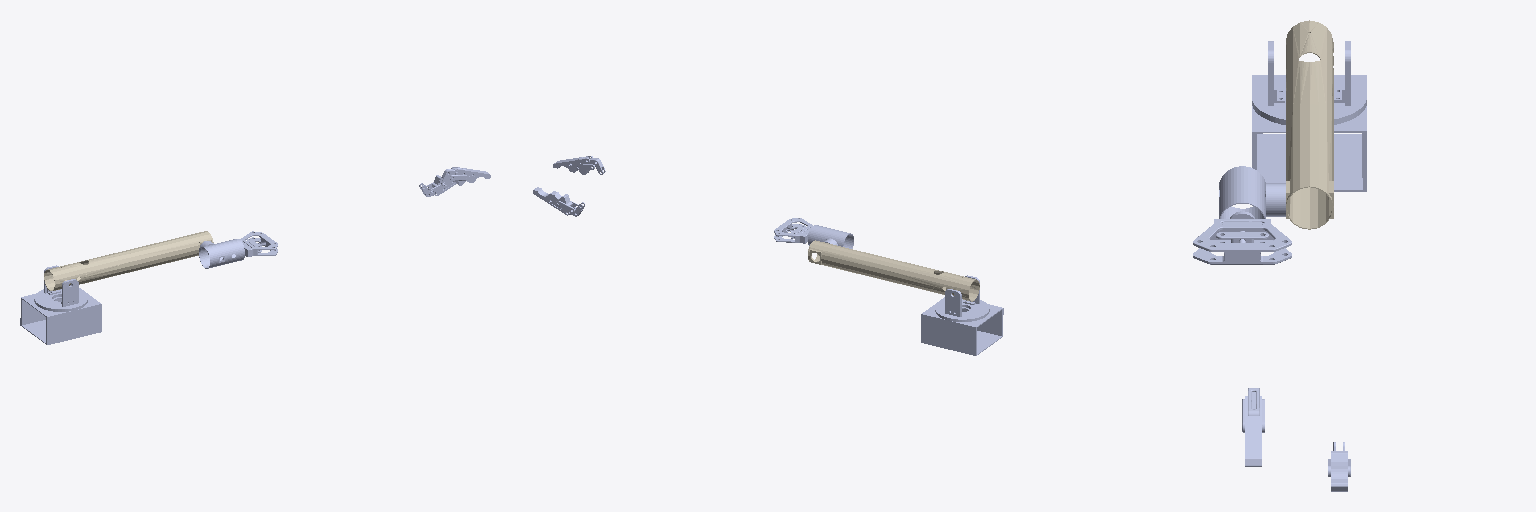
robot.urdf — msv_3dof_arm:
<?xml version="1.0" encoding="utf-8"?>
<!-- This URDF was automatically created by SolidWorks to URDF Exporter! Originally created by [author] ([email redacted]) 
     Commit Version: 1.6.0-1-g15f4949  Build Version: 1.6.7594.29634
     For more information, please see http://wiki.ros.org/sw_urdf_exporter -->
<robot
  name="msv_3dof_arm">
  <link
    name="base_link">
    <inertial>
      <origin
        xyz="0 0 -0.09135"
        rpy="0 0 0" />
      <mass
        value="0.156772566611769" />
      <inertia
        ixx="0.000494148301397321"
        ixy="-2.6240374845148E-21"
        ixz="-7.90564084104019E-21"
        iyy="0.000368498301397322"
        iyz="-2.92371927043028E-20"
        izz="0.000646691913743825" />
    </inertial>
    <visual>
      <origin
        xyz="0 0 0"
        rpy="1.5757 0 0" />
      <geometry>
        <mesh
          filename="package://msv_3dof_arm/meshes/base_link.STL" />
      </geometry>
      <material
        name="">
        <color
          rgba="0.792156862745098 0.819607843137255 0.933333333333333 1" />
      </material>
    </visual>
    <collision>
      <origin
        xyz="0 0 0"
        rpy="1.5757 0 0" />
      <geometry>
        <mesh
          filename="package://msv_3dof_arm/meshes/base_link.STL" />
      </geometry>
    </collision>
  </link>
  <link
    name="link1">
    <inertial>
      <origin
        xyz="0.110728673410591 -0.0092714182188576 -0.0425649356498366"
        rpy="1.5757 0 0" />
      <mass
        value="0.433898677133809" />
      <inertia
        ixx="0.0016639828460917"
        ixy="0.00120863202140725"
        ixz="-0.00204502780751148"
        iyy="0.0125493047119251"
        iyz="0.000171227036330293"
        izz="0.0124511366596275" />
    </inertial>
    <visual>
      <origin
        xyz="0 0 0"
        rpy="1.5757 0 0" />
      <geometry>
        <mesh
          filename="package://msv_3dof_arm/meshes/link1.STL" />
      </geometry>
      <material
        name="">
        <color
          rgba="0.792156862745098 0.819607843137255 0.933333333333333 1" />
      </material>
    </visual>
    <collision>
      <origin
        xyz="0 0 0"
        rpy="1.5757 0 0" />
      <geometry>
        <mesh
          filename="package://msv_3dof_arm/meshes/link1.STL" />
      </geometry>
    </collision>
  </link>
  <joint
    name="joint_base"
    type="revolute">
    <origin
      xyz="0 0 0"
      rpy="0 0 0" />
    <parent
      link="base_link" />
    <child
      link="link1" />
    <axis
      xyz="0 0 1" />
    <limit
      lower="0"
      upper="0"
      effort="0"
      velocity="0" />
  </joint>
  <link
    name="link2">
    <inertial>
      <origin
        xyz="0.184976916380391 5.73149567945075E-08 -1.87434286751525E-07"
        rpy="0 0 0" />
      <mass
        value="0.114971943053287" />
      <inertia
        ixx="6.92181720797658E-05"
        ixy="6.99722840783902E-10"
        ixz="1.68954468947633E-09"
        iyy="0.00172567923104233"
        iyz="4.70686983653976E-09"
        izz="0.0017235177638611" />
    </inertial>
    <visual>
      <origin
        xyz="0 0 0"
        rpy="0 0 0" />
      <geometry>
        <mesh
          filename="package://msv_3dof_arm/meshes/link2.STL" />
      </geometry>
      <material
        name="">
        <color
          rgba="0.843137254901961 0.815686274509804 0.752941176470588 1" />
      </material>
    </visual>
    <collision>
      <origin
        xyz="0 0 0"
        rpy="0 0 0" />
      <geometry>
        <mesh
          filename="package://msv_3dof_arm/meshes/link2.STL" />
      </geometry>
    </collision>
  </link>
  <joint
    name="joint_shoulder"
    type="revolute">
    <origin
      xyz="0 0 0"
      rpy="1.5708 0 0" />
    <parent
      link="link1" />
    <child
      link="link2" />
    <axis
      xyz="0 0 1" />
    <limit
      lower="0"
      upper="0"
      effort="0"
      velocity="0" />
  </joint>
  <link
    name="link3">
    <inertial>
      <origin
        xyz="-0.249271326589409 -0.0425649356498366 0.00927141821885761"
        rpy="0 0 0" />
      <mass
        value="0.433898677133809" />
      <inertia
        ixx="0.0016639828460917"
        ixy="-0.00204502780751148"
        ixz="-0.00120863202140725"
        iyy="0.0124511366596275"
        iyz="-0.000171227036330293"
        izz="0.0125493047119251" />
    </inertial>
    <visual>
      <origin
        xyz="-0.36 0 0"
        rpy="0 0 0" />
      <geometry>
        <mesh
          filename="package://msv_3dof_arm/meshes/link3.STL" />
      </geometry>
      <material
        name="">
        <color
          rgba="0.792156862745098 0.819607843137255 0.933333333333333 1" />
      </material>
    </visual>
    <collision>
      <origin
        xyz="0 0 0"
        rpy="0 0 0" />
      <geometry>
        <mesh
          filename="package://msv_3dof_arm/meshes/link3.STL" />
      </geometry>
    </collision>
  </link>
  <joint
    name="joint_elbow"
    type="revolute">
    <origin
      xyz="0.36 0 0"
      rpy="0 0 0" />
    <parent
      link="link2" />
    <child
      link="link3" />
    <axis
      xyz="0 0 1" />
    <limit
      lower="0"
      upper="0"
      effort="0"
      velocity="0" />
  </joint>
  <link
    name="finger1">
    <inertial>
      <origin
        xyz="-0.370997344849409 0.0161756785111424 -0.0425649356498366"
        rpy="0 0 0" />
      <mass
        value="0.433898677133809" />
      <inertia
        ixx="0.0016639828460917"
        ixy="0.00120863202140725"
        ixz="-0.00204502780751148"
        iyy="0.0125493047119251"
        iyz="0.000171227036330293"
        izz="0.0124511366596275" />
    </inertial>
    <visual>
      <origin
        xyz="0 0 0"
        rpy="0 0 0" />
      <geometry>
        <mesh
          filename="package://msv_3dof_arm/meshes/finger1.STL" />
      </geometry>
      <material
        name="">
        <color
          rgba="0.792156862745098 0.819607843137255 0.933333333333333 1" />
      </material>
    </visual>
    <collision>
      <origin
        xyz="-0.481 .056 0"
        rpy="0 0 0" />
      <geometry>
        <mesh
          filename="package://msv_3dof_arm/meshes/finger1.STL" />
      </geometry>
    </collision>
  </link>
  <joint
    name="joint_finger1"
    type="revolute">
    <origin
      xyz="0.12173 0 0.025447"
      rpy="-1.5708 0 0" />
    <parent
      link="link3" />
    <child
      link="finger1" />
    <axis
      xyz="0 0 -1" />
    <limit
      lower="0"
      upper="0"
      effort="0"
      velocity="0" />
  </joint>
  <link
    name="finger2">
    <inertial>
      <origin
        xyz="-0.370997344849409 0.105281485051142 -0.0425649356498366"
        rpy="0 0 0" />
      <mass
        value="0.433898677133809" />
      <inertia
        ixx="0.0016639828460917"
        ixy="0.00120863202140725"
        ixz="-0.00204502780751148"
        iyy="0.0125493047119251"
        iyz="0.000171227036330293"
        izz="0.0124511366596275" />
    </inertial>
    <visual>
      <origin
        xyz="0 0 0"
        rpy="0 0 0" />
      <geometry>
        <mesh
          filename="package://msv_3dof_arm/meshes/finger2.STL" />
      </geometry>
      <material
        name="">
        <color
          rgba="0.792156862745098 0.819607843137255 0.933333333333333 1" />
      </material>
    </visual>
    <collision>
      <origin
        xyz="0 0 0"
        rpy="0 0 0" />
      <geometry>
        <mesh
          filename="package://msv_3dof_arm/meshes/finger2.STL" />
      </geometry>
    </collision>
  </link>
  <joint
    name="joint_finger2"
    type="revolute">
    <origin
      xyz="0.12173 0 0.11455"
      rpy="-1.5708 0 0" />
    <parent
      link="link3" />
    <child
      link="finger2" />
    <axis
      xyz="0 0 1" />
    <limit
      lower="0"
      upper="0"
      effort="0"
      velocity="0" />
  </joint>
</robot>

--- What the picture shows (computed from the rendered views, not written in the file) ---
The picture shows the robot from 3 angles, left to right: view 1: azimuth 30°, elevation 25°; view 2: azimuth 150°, elevation 25°; view 3: azimuth 270°, elevation 25°; orthographic projection.
Robot: msv_3dof_arm — 6 links, 5 joints (5 revolute); root link base_link; default pose: all joints at 0.
Visible links, largest first — view 1: link2, base_link, link3, link1, finger2; view 2: link2, base_link, link3, link1, finger1, finger2; view 3: link2, link3, base_link, link1, finger2, finger1.
Link boxes in pixels (x1=…): link2: x1=44, y1=231, x2=213, y2=290; base_link: x1=20, y1=288, x2=101, y2=344; link3: x1=199, y1=231, x2=277, y2=268; link1: x1=34, y1=265, x2=87, y2=311; finger2: x1=439, y1=167, x2=490, y2=185; link2: x1=808, y1=240, x2=979, y2=301; base_link: x1=921, y1=297, x2=1003, y2=355; link3: x1=774, y1=218, x2=853, y2=248; link1: x1=935, y1=275, x2=989, y2=321; finger1: x1=533, y1=187, x2=584, y2=216; finger2: x1=553, y1=156, x2=605, y2=174; link2: x1=1286, y1=20, x2=1333, y2=229; link3: x1=1193, y1=166, x2=1291, y2=264; base_link: x1=1252, y1=75, x2=1366, y2=191; link1: x1=1252, y1=41, x2=1366, y2=124; finger2: x1=1242, y1=388, x2=1264, y2=466; finger1: x1=1328, y1=442, x2=1350, y2=491.
Bounding box of the posed robot: 1.14 × 0.1825 × 0.1913 m (x, y, z).
6 mesh visuals loaded from 6 distinct referenced files (6 binary STL).